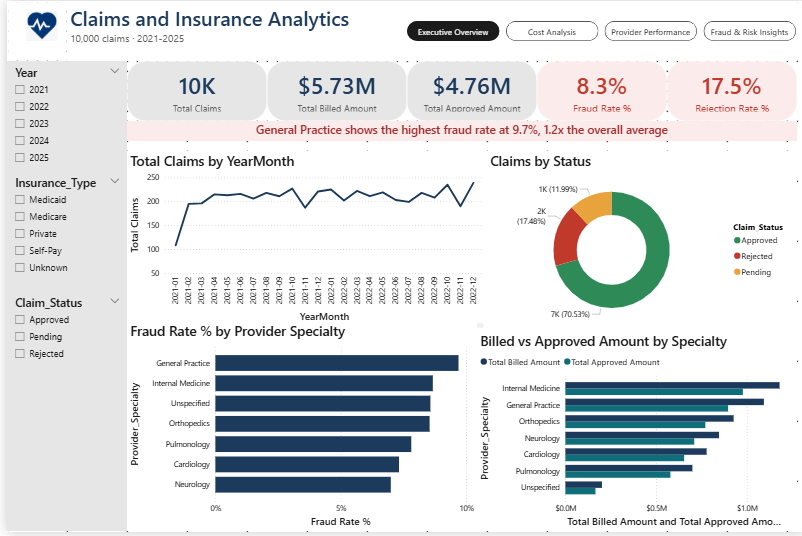

What the dashboard file says about the page in this screenshot:
{"tool":"powerbi","page":{"name":"Executive Overview","canvas":[1280,850],"ordinal":0},"visuals":[{"type":"card","fields":{"Values":["healthcare_claims_cleaned.Total Claims"]},"box":[192,96,224,96],"z":0},{"type":"card","fields":{"Values":["healthcare_claims_cleaned.Total Billed Amount"]},"box":[416,96,224,96],"z":1000},{"type":"card","fields":{"Values":["healthcare_claims_cleaned.Total Approved Amount"]},"box":[640,96,208,96],"z":2000},{"type":"card","fields":{"Values":["healthcare_claims_cleaned.Fraud Rate %"]},"box":[848,96,208,96],"z":3000},{"type":"card","fields":{"Values":["healthcare_claims_cleaned.Rejection Rate %"]},"box":[1056,96,208,96],"z":4000},{"type":"lineChart","fields":{"Y":["healthcare_claims_cleaned.Total Claims"],"Category":["DateTable.YearMonth"]},"box":[192,240,576,288],"z":5000},{"type":"donutChart","title":"Claims by Status","fields":{"Category":["healthcare_claims_cleaned.Claim_Status"],"Y":["healthcare_claims_cleaned.Total Claims"]},"box":[768,240,496,288],"z":6000},{"type":"slicer","fields":{"Values":["DateTable.Year"]},"box":[0,96,192,176],"z":7000},{"type":"slicer","fields":{"Values":["healthcare_claims_cleaned.Insurance_Type"]},"box":[0,272,192,192],"z":8000},{"type":"slicer","fields":{"Values":["healthcare_claims_cleaned.Claim_Status"]},"box":[0,464,192,384],"z":9000},{"type":"card","fields":{"Values":["healthcare_claims_cleaned.Top Fraud Specialty Text"]},"box":[192,192,1072,32],"z":10000},{"type":"clusteredBarChart","title":"Fraud Rate % by Provider Specialty","fields":{"Category":["healthcare_claims_cleaned.Provider_Specialty"],"Y":["healthcare_claims_cleaned.Fraud Rate %"]},"box":[192,512,560,336],"z":11000},{"type":"clusteredBarChart","title":"Billed vs Approved Amount by Specialty","fields":{"Category":["healthcare_claims_cleaned.Provider_Specialty"],"Y":["healthcare_claims_cleaned.Total Billed Amount","healthcare_claims_cleaned.Total Approved Amount"]},"box":[752,528,512,320],"z":12000},{"type":"textbox","box":[96,0,1168,96],"z":13000},{"type":"image","box":[16,16,80,48],"z":14000},{"type":"pageNavigator","box":[640,32,624,32],"z":15000}]}

Visuals, with their boxes in screenshot pixels (x1, y1, x2, y2), scaled from the page's 1280x850 canvas onto the 802x536 screenshot:
card - healthcare_claims_cleaned.Total Claims: 120,61,261,121
card - healthcare_claims_cleaned.Total Billed Amount: 261,61,401,121
card - healthcare_claims_cleaned.Total Approved Amount: 401,61,531,121
card - healthcare_claims_cleaned.Fraud Rate %: 531,61,662,121
card - healthcare_claims_cleaned.Rejection Rate %: 662,61,792,121
lineChart - healthcare_claims_cleaned.Total Claims x DateTable.YearMonth: 120,151,481,333
"Claims by Status" donutChart: 481,151,792,333
slicer - DateTable.Year: 0,61,120,172
slicer - healthcare_claims_cleaned.Insurance_Type: 0,172,120,293
slicer - healthcare_claims_cleaned.Claim_Status: 0,293,120,535
card - healthcare_claims_cleaned.Top Fraud Specialty Text: 120,121,792,141
"Fraud Rate % by Provider Specialty" clusteredBarChart: 120,323,471,535
"Billed vs Approved Amount by Specialty" clusteredBarChart: 471,333,792,535
textbox: 60,0,792,61
image: 10,10,60,40
pageNavigator: 401,20,792,40
